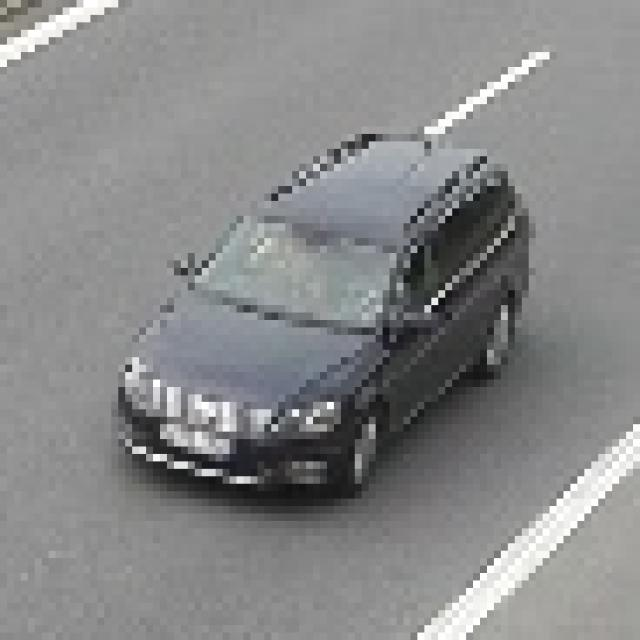SUV: (126, 142, 510, 471)
